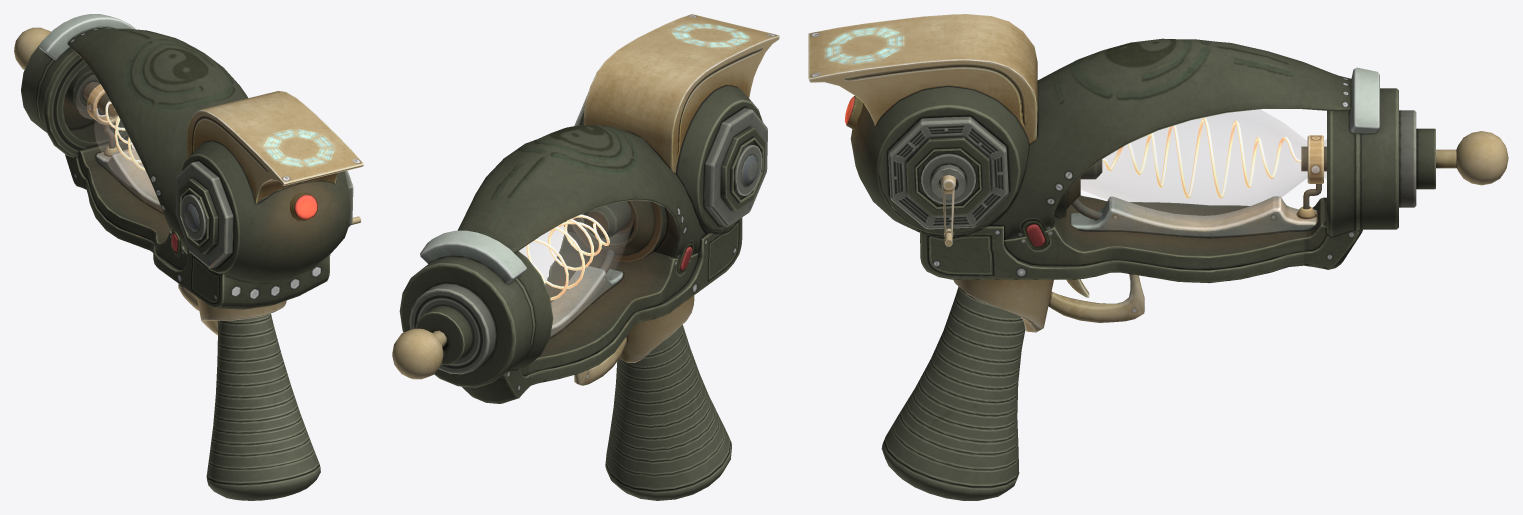
3 renders of one model, left to right at view 1: azimuth 30°, elevation 25°; view 2: azimuth 150°, elevation 25°; view 3: azimuth 270°, elevation 25°, orthographic. The views are drawn at different scales.
Parts seen in each view (by area): view 1: mainHandle_lo, sheel, roller, ear, base01, head, reel, bottle_lo, base02, crown, handle2, Head (+3 smaller); view 2: sheel, ear, mainHandle_lo, head, base01, bottle_lo, reel, roller, source1, crown, base02, Head (+3 smaller); view 3: sheel, base01, mainHandle_lo, bottle_lo, ear, head, reel, roller, base02, handle2, accelerator_lo, Head (+4 smaller).
Part boxes in pixels (<box>): mainHandle_lo: <box>206,313,320,500</box>; sheel: <box>67,27,247,252</box>; roller: <box>181,140,350,283</box>; ear: <box>187,91,363,202</box>; base01: <box>65,138,330,309</box>; head: <box>21,40,131,157</box>; reel: <box>175,161,353,268</box>; bottle_lo: <box>76,75,156,195</box>; base02: <box>96,124,163,213</box>; crown: <box>39,14,135,60</box>; handle2: <box>197,297,286,335</box>; Head: <box>14,27,50,69</box>; sheel: <box>457,124,706,258</box>; ear: <box>583,14,779,173</box>; mainHandle_lo: <box>605,324,731,500</box>; head: <box>399,251,553,387</box>; base01: <box>462,217,742,403</box>; bottle_lo: <box>519,202,633,319</box>; reel: <box>574,92,767,226</box>; roller: <box>579,85,762,233</box>; source1: <box>571,200,668,262</box>; crown: <box>420,230,526,283</box>; base02: <box>550,265,622,337</box>; Head: <box>392,328,443,379</box>; sheel: <box>989,38,1351,239</box>; base01: <box>920,195,1362,283</box>; mainHandle_lo: <box>881,286,1025,500</box>; bottle_lo: <box>1081,109,1326,222</box>; ear: <box>808,14,1037,143</box>; head: <box>1301,88,1435,236</box>; reel: <box>888,116,1008,229</box>; roller: <box>850,85,1029,235</box>; base02: <box>1070,184,1321,237</box>; handle2: <box>953,279,1053,332</box>; accelerator_lo: <box>1102,118,1301,198</box>; Head: <box>1456,131,1508,185</box>.
Size of the model in its own units: 0.0514 by 0.111 by 0.1558.
Materials: 1 (1 with a texture image).
